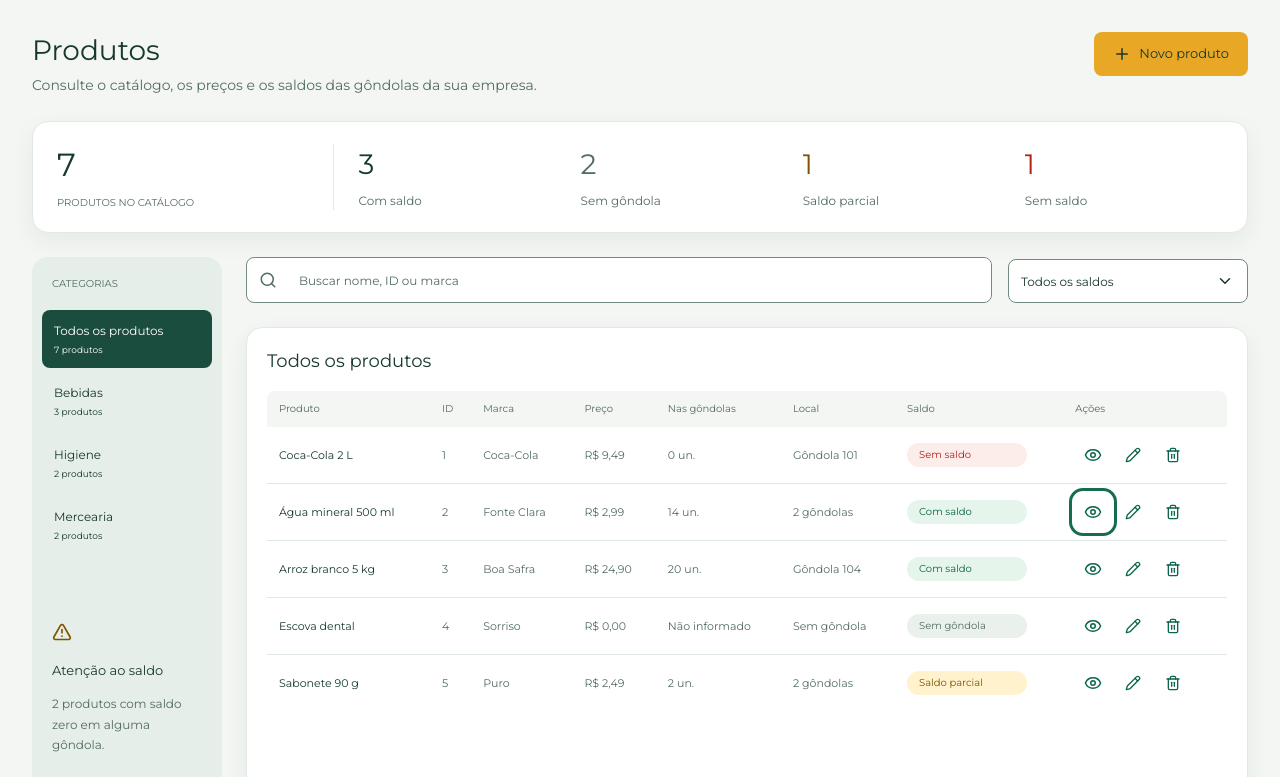
shows all real placements, restores focus and selects the chosen ID on the map
Check: the table is shown, box [267,391,1227,711]
Click the button named "Ver detalhes de Água mineral 500 ml".
click(1093, 512)  # box [1075,494,1111,530]
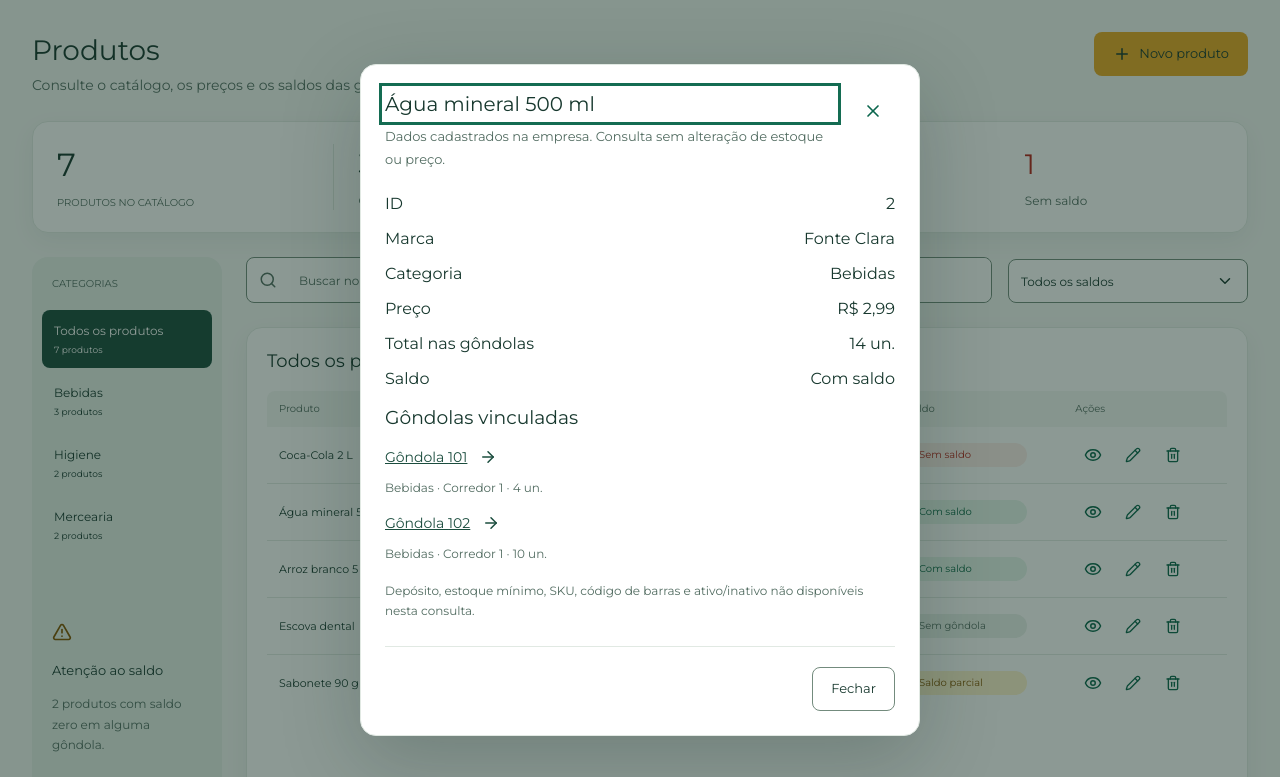
Check: the text "14 un." is shown, box [850,334,895,353]
Press Escape in the dialog "Água mineral 500 ml", box [360,64,920,736]
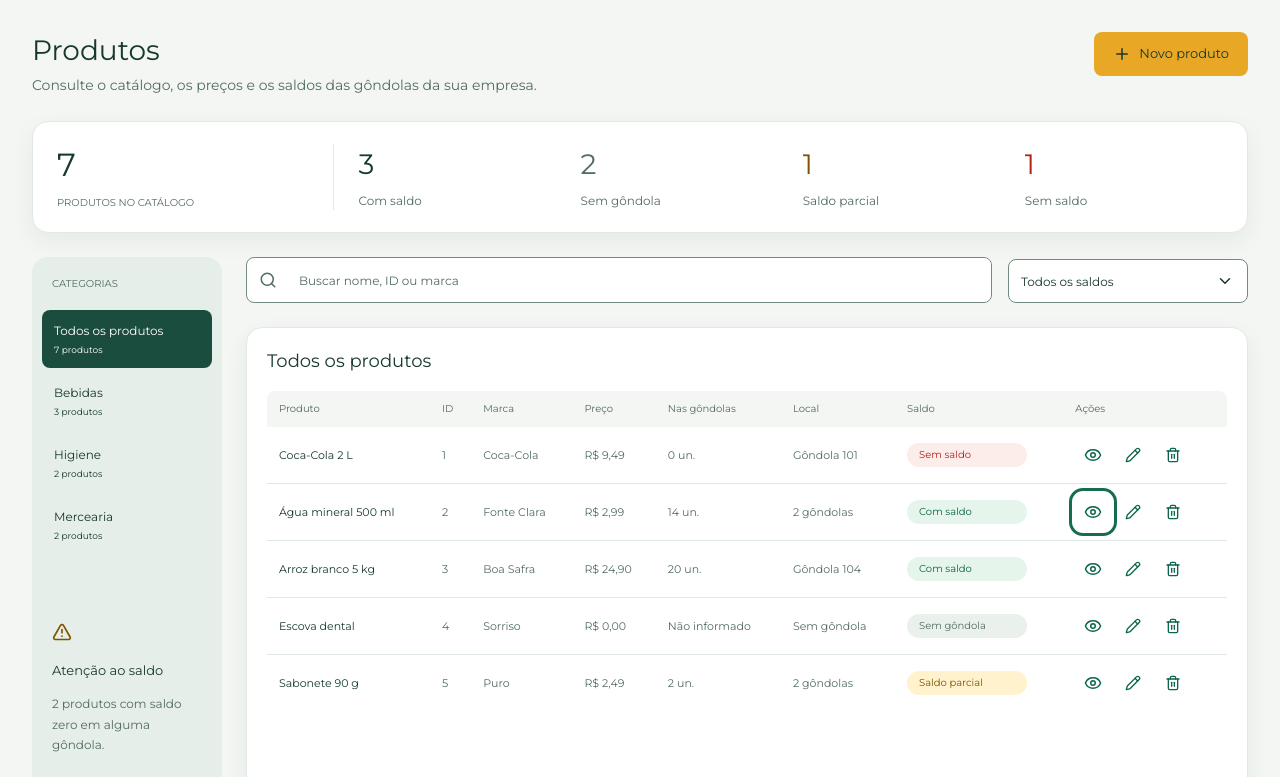
Click the button named "Ver detalhes de Água mineral 500 ml".
click(1093, 512)  # box [1075,494,1111,530]
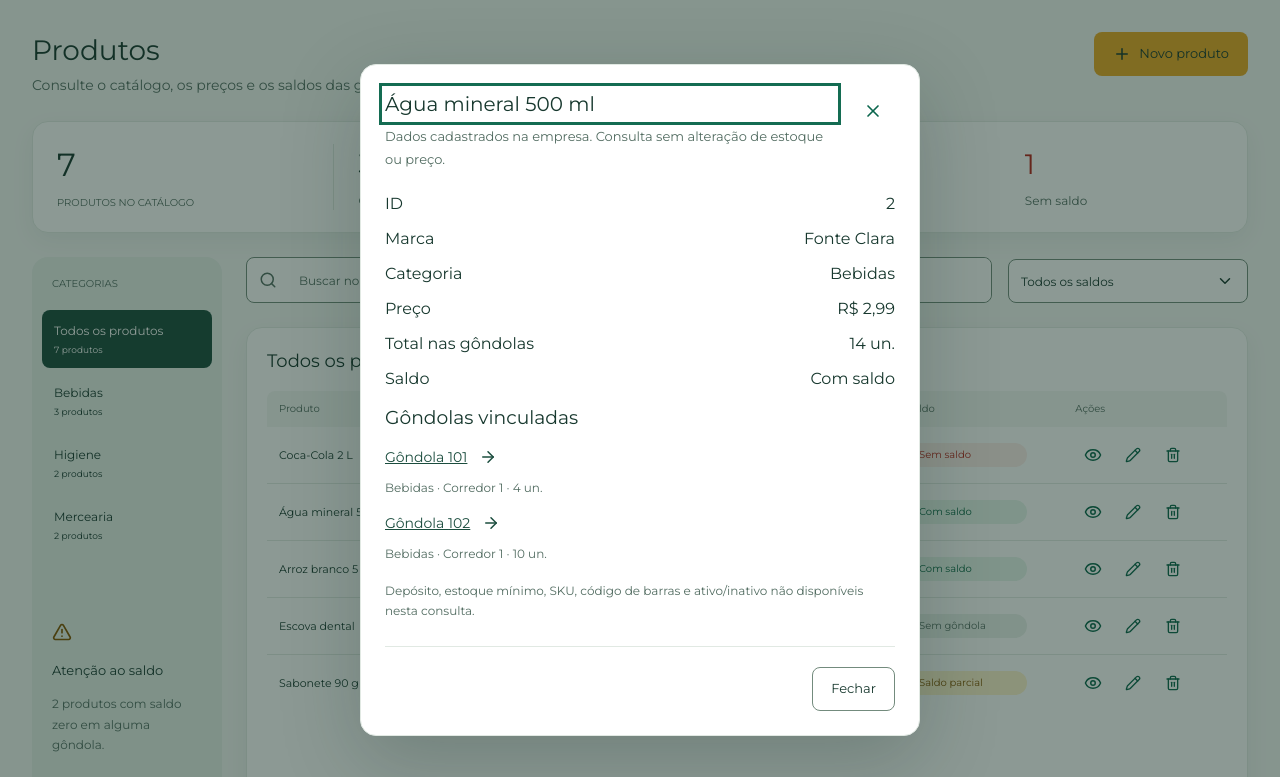
Click the link with aria-label "Ver gôndola 102 no mapa".
click(443, 523)  # box [385,514,500,532]
(page scrolled)
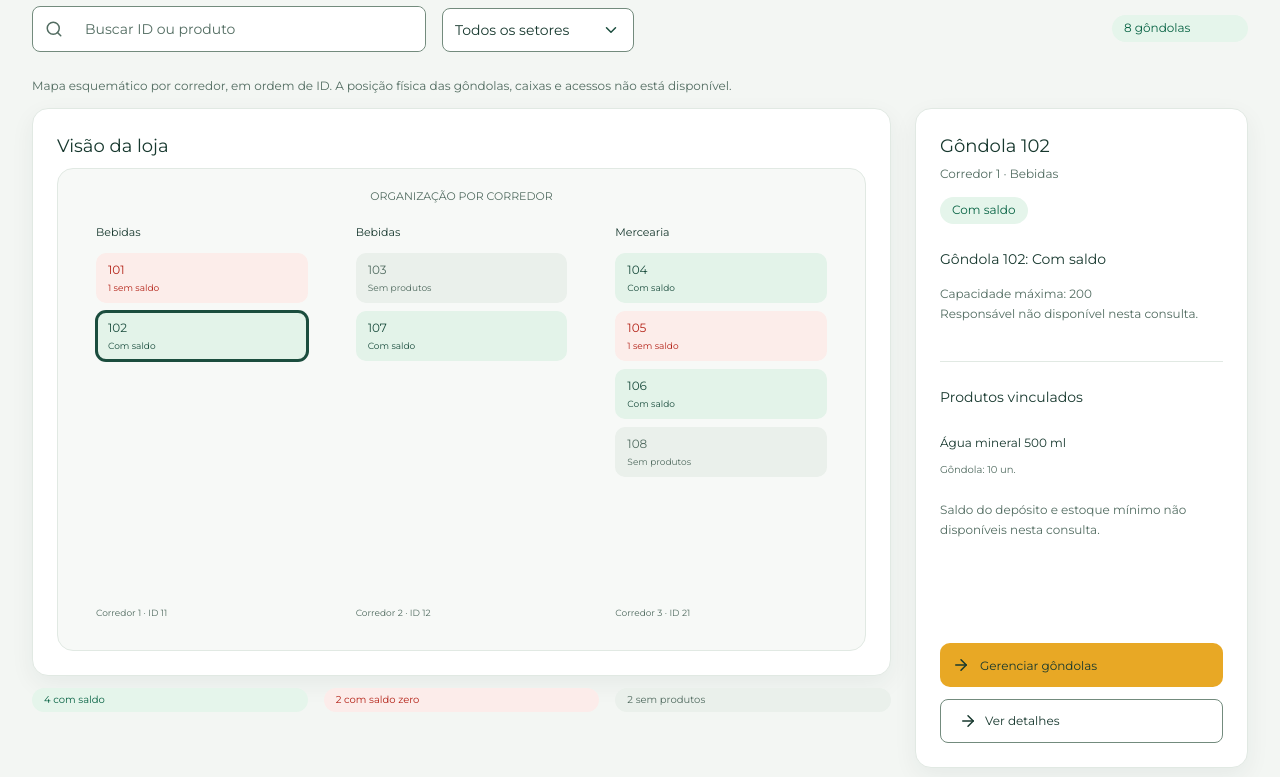
Check: the element "Gôndola 102" is shown, box [915,108,1248,768]
